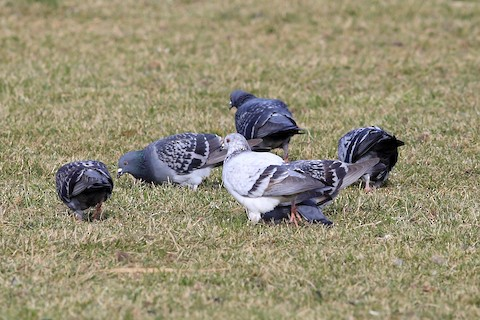pigeon: (217, 134, 379, 230), (112, 130, 234, 193), (224, 87, 303, 159), (334, 120, 406, 187), (50, 159, 119, 224)
